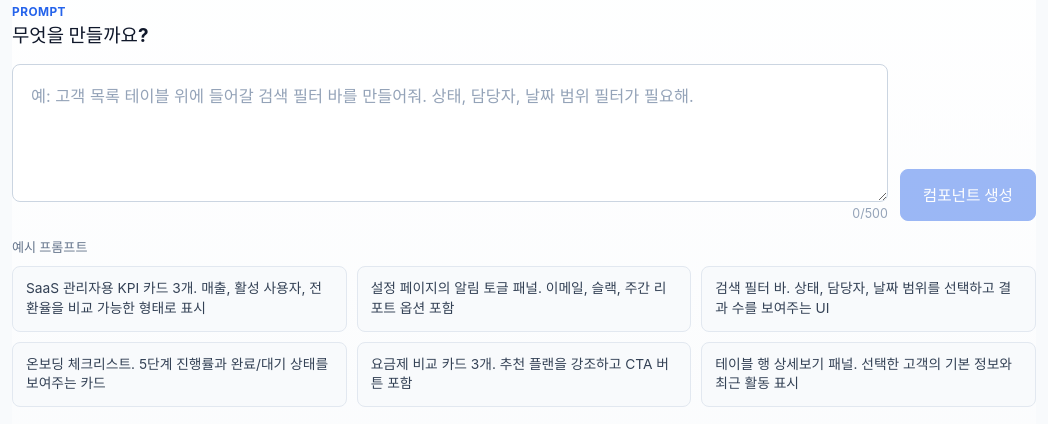
Test case: PromptInput › 입력한 글자 수와 최대 글자 수를 카운터로 보여준다
The width and height of the screenshot is (1048, 424).
Check: the text "0/500" is shown, box [852,206,888,221]
Type "프로필 카드" into the text box. click: (450,133)
box: [12,64,888,202]
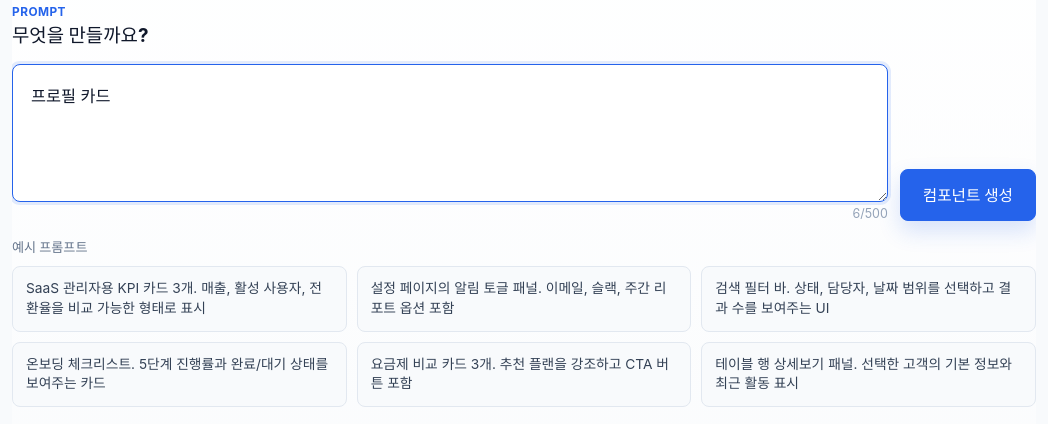
Check: the text "6/500" is shown, box [852,206,888,221]
